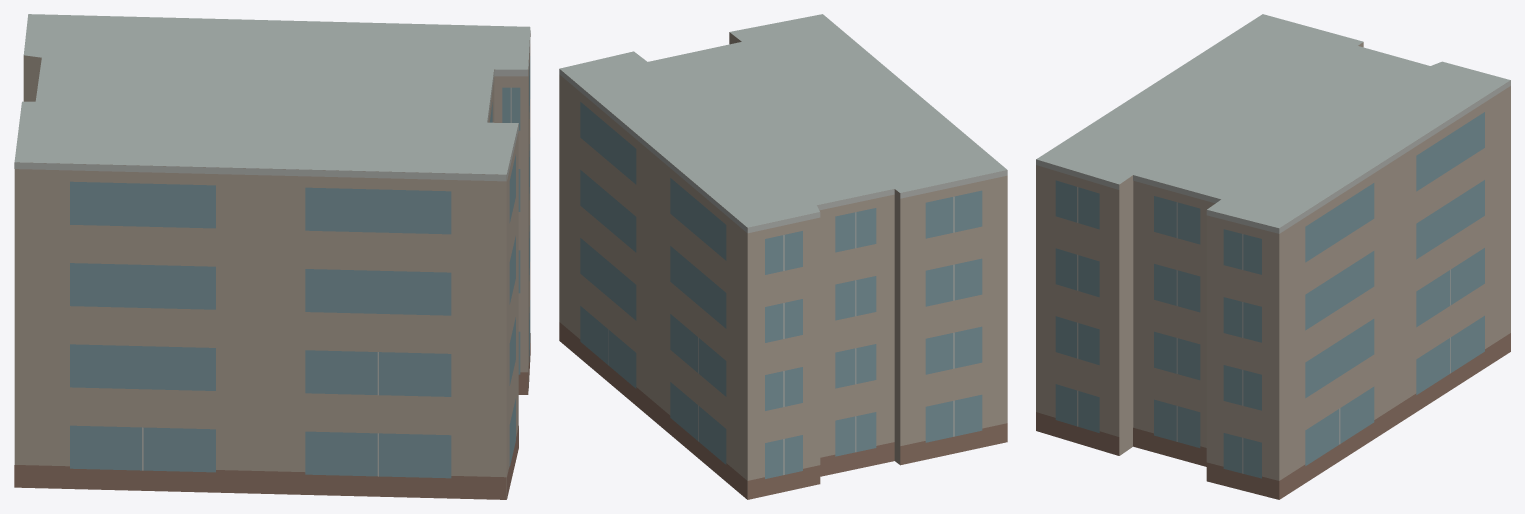
The model's file is survey-upis-33007463.glb.
3 views of the same model, side by side, from view 1: azimuth 30°, elevation 25°; view 2: azimuth 150°, elevation 25°; view 3: azimuth 270°, elevation 25° (orthographic). The views are drawn at different scales.
Visible parts, largest first — view 1: survey-upis-33007463.tmp; view 2: survey-upis-33007463.tmp; view 3: survey-upis-33007463.tmp.
Boxes of the visible parts, x1=… form: survey-upis-33007463.tmp: x1=14, y1=14, x2=530, y2=499; survey-upis-33007463.tmp: x1=559, y1=14, x2=1007, y2=499; survey-upis-33007463.tmp: x1=1036, y1=14, x2=1510, y2=499.
Bounding box in the file's own units: 19.98 × 11.8 × 18.7.
